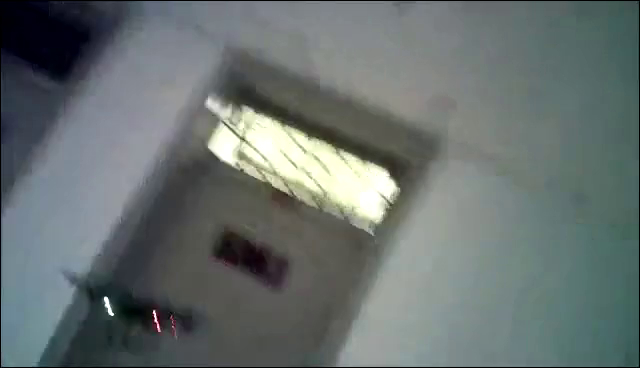drone: (58, 267, 209, 355)
